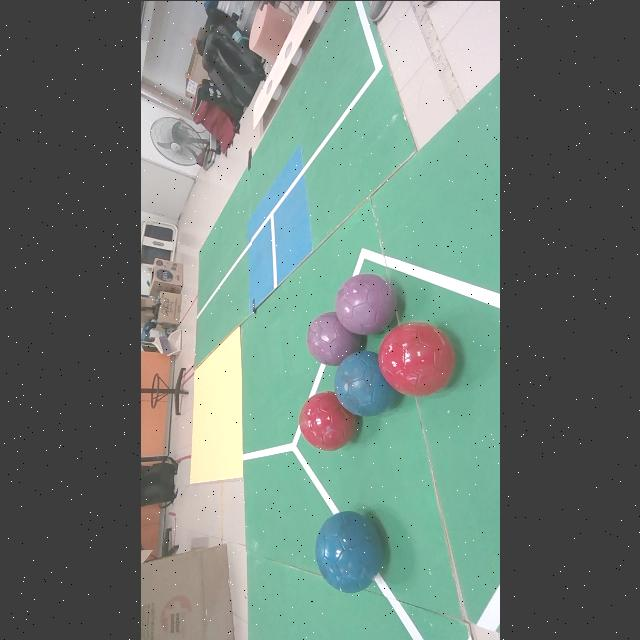B: (315, 511, 382, 592), (334, 350, 398, 413)
P: (334, 273, 396, 334), (305, 311, 359, 365)
R: (378, 321, 455, 395), (298, 390, 356, 450)
